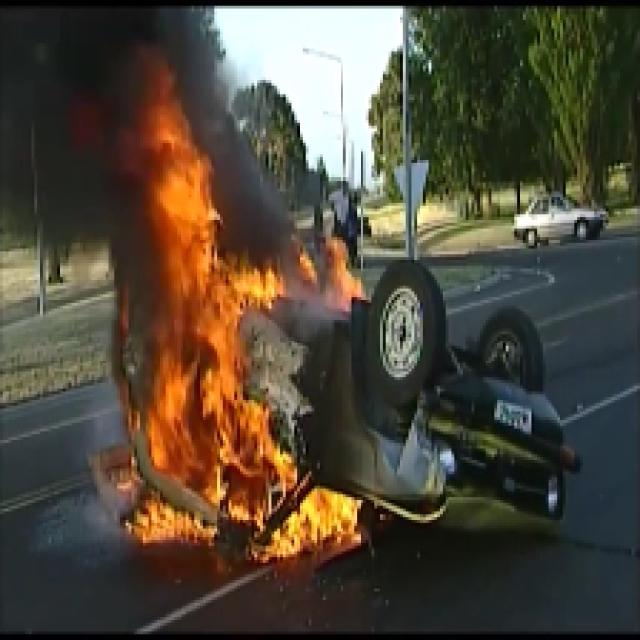fire: (135, 344, 343, 550), (160, 159, 232, 346)
smoke: (5, 16, 133, 232)
